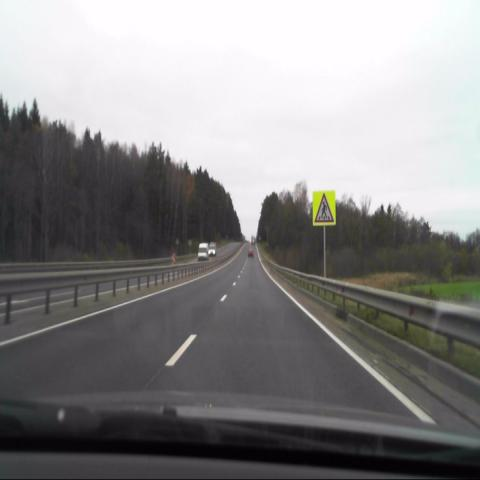1_22: (313, 191, 335, 224)
